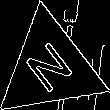N_SE: (20, 35, 80, 100)
